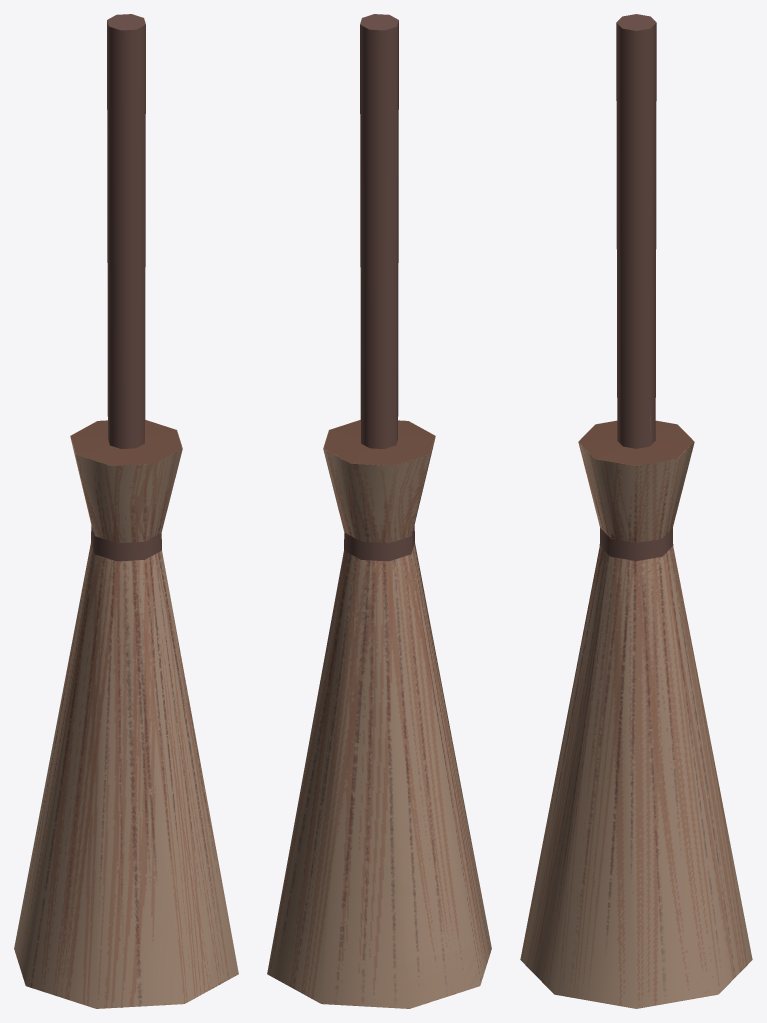
Rendered from sapu.fbx.
The picture shows the model from 3 angles, left to right: view 1: azimuth 30°, elevation 25°; view 2: azimuth 150°, elevation 25°; view 3: azimuth 270°, elevation 25°; orthographic projection.
Parts seen in each view (by area): view 1: sapu; view 2: sapu; view 3: sapu.
Boxes of the visible parts, x1,y1,x2,y2 form: sapu: (14,14,238,1008); sapu: (267,14,491,1008); sapu: (520,14,752,1008).
Size of the model in its own units: 0.293 by 1.3 by 0.293.
Materials: 1 (1 with a texture image).
